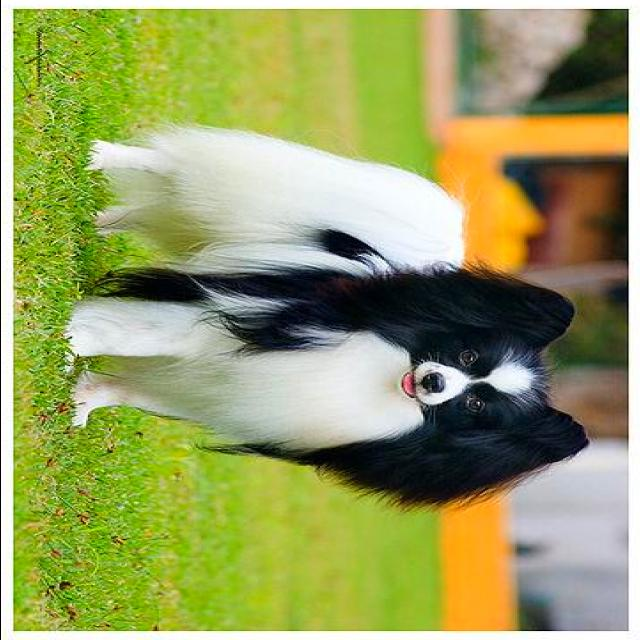papillon: (67, 124, 588, 520)
